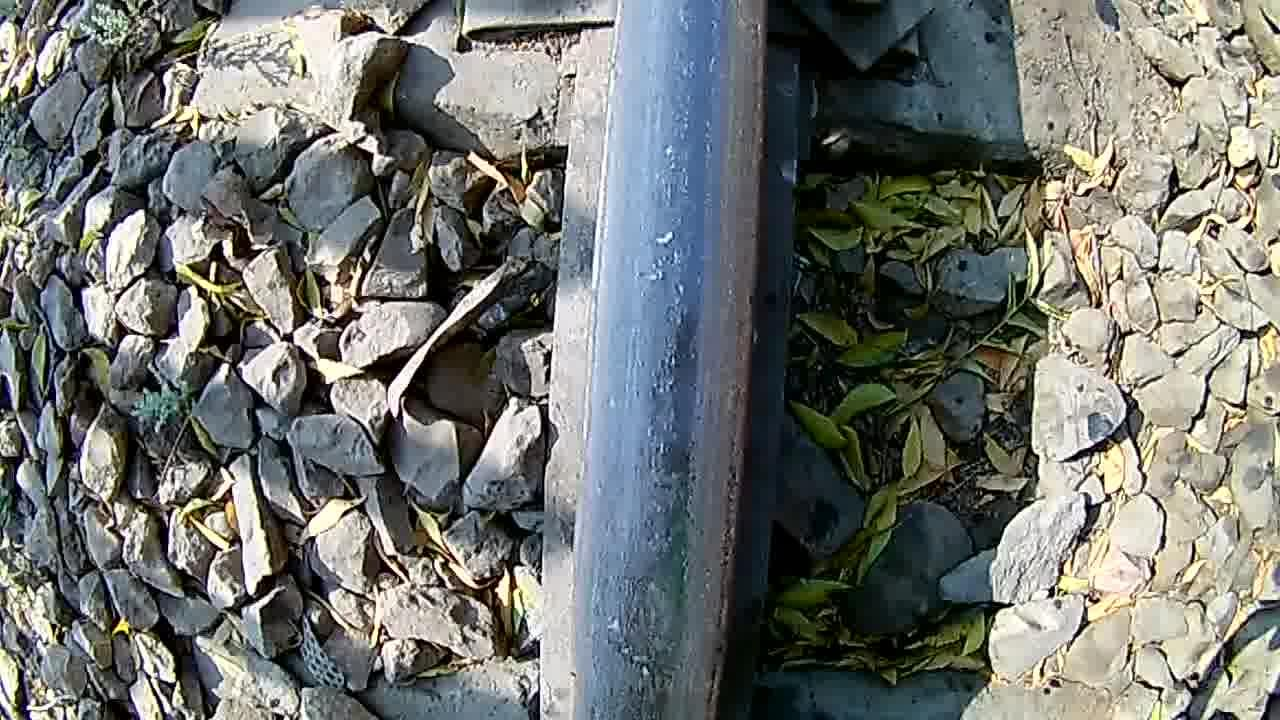bolt_missing: (572, 403, 740, 720)
